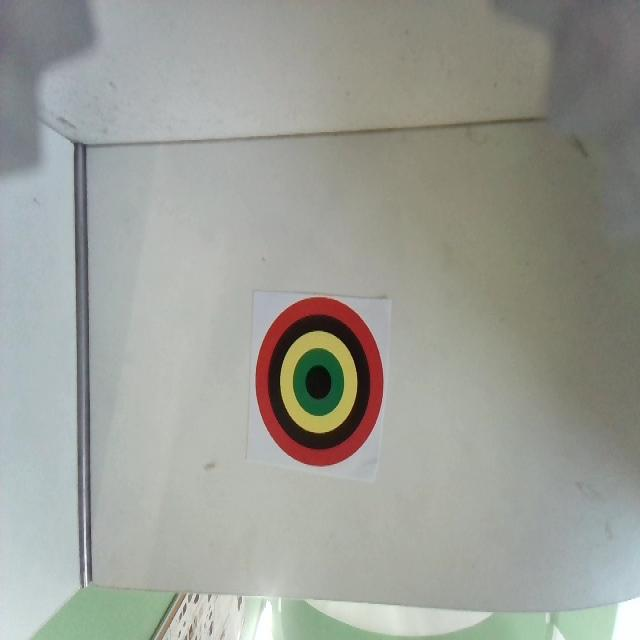cogn: (255, 296, 384, 467)
